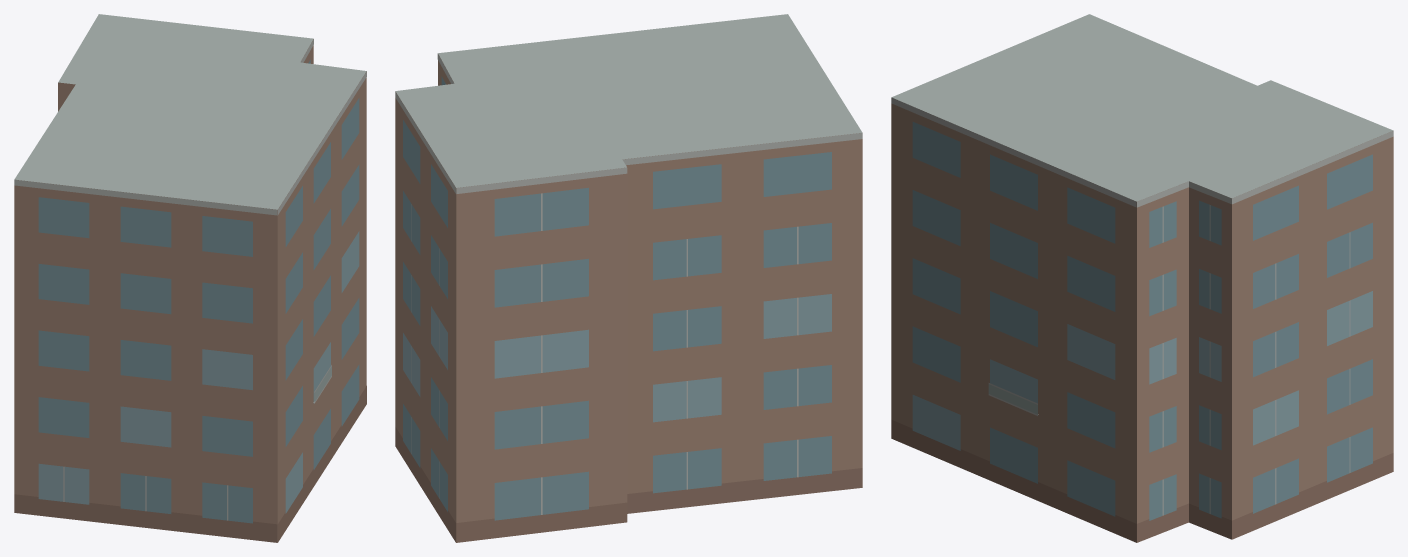
File: survey-upis-32917012.glb
The picture shows the model from 3 angles, left to right: view 1: azimuth 30°, elevation 25°; view 2: azimuth 150°, elevation 25°; view 3: azimuth 270°, elevation 25°; orthographic projection. The views are drawn at different scales.
Parts seen in each view (by area): view 1: survey-upis-32917012.tmp; view 2: survey-upis-32917012.tmp; view 3: survey-upis-32917012.tmp.
Part boxes in pixels (<box>): survey-upis-32917012.tmp: <box>14,14,366,542</box>; survey-upis-32917012.tmp: <box>395,14,862,542</box>; survey-upis-32917012.tmp: <box>891,14,1393,542</box>.
Bounding box in the file's own units: 16.35 × 13.85 × 18.48.
